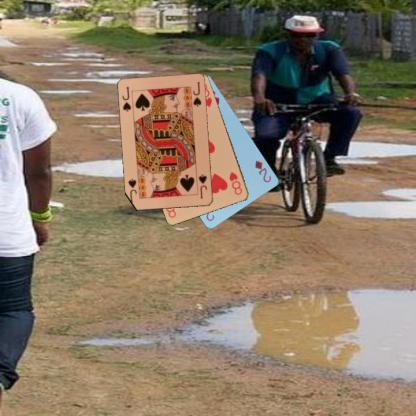2d: (252, 158, 272, 184)
8h: (227, 170, 243, 196)
Js: (120, 84, 132, 113), (196, 172, 208, 200)
